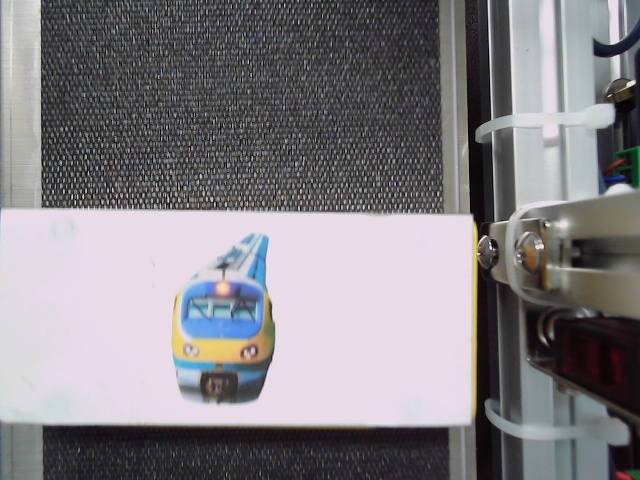train: (168, 232, 279, 407)
